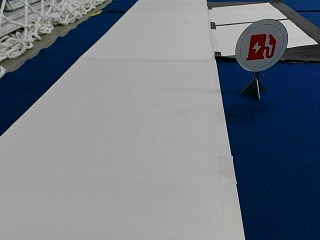battery: (235, 18, 287, 71)
